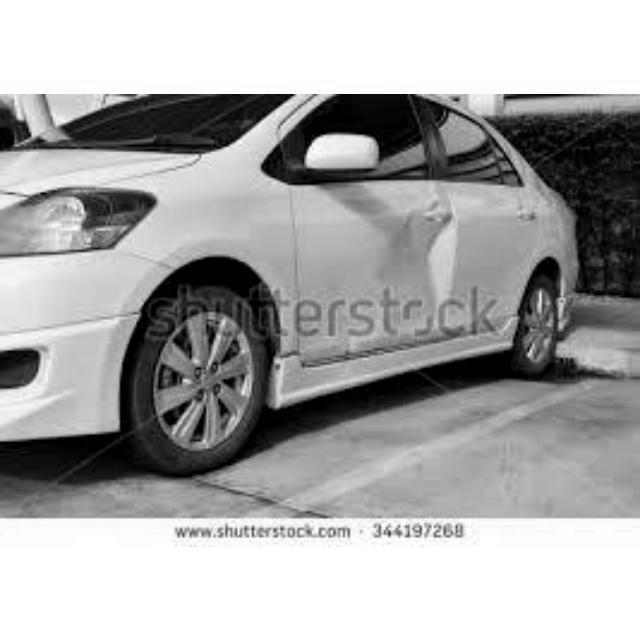doorouter-dent: (346, 194, 461, 356)
